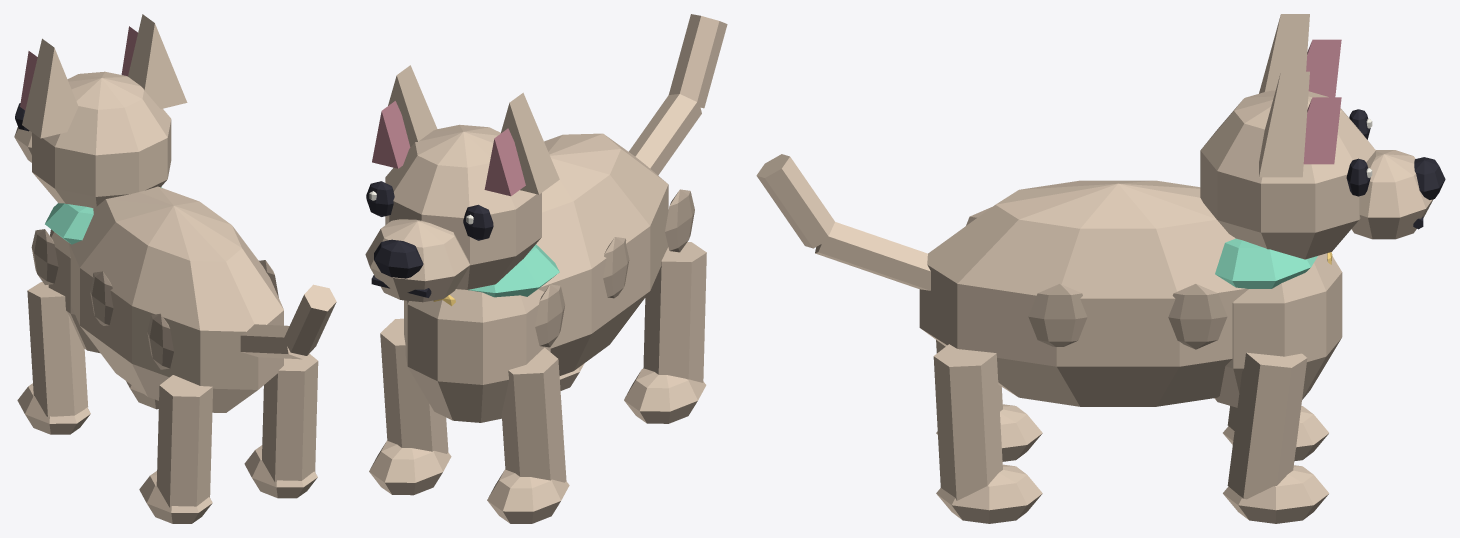
Rendered from american_hairless_terrier.glb.
The picture shows the model from 3 angles, left to right: view 1: azimuth 30°, elevation 25°; view 2: azimuth 150°, elevation 25°; view 3: azimuth 270°, elevation 25°; orthographic projection. The views are drawn at different scales.
Visible parts, largest first — view 1: BodyMesh, HeadMesh; view 2: BodyMesh, HeadMesh; view 3: BodyMesh, HeadMesh.
Boxes of the visible parts, box(x1,y1,x2,y2) form: BodyMesh: box(17, 186, 336, 523); HeadMesh: box(14, 14, 187, 207); BodyMesh: box(369, 14, 727, 523); HeadMesh: box(365, 65, 559, 302); BodyMesh: box(756, 154, 1342, 523); HeadMesh: box(1200, 14, 1445, 259).
Size of the model in its own units: 0.458 by 1.01 by 1.42.
